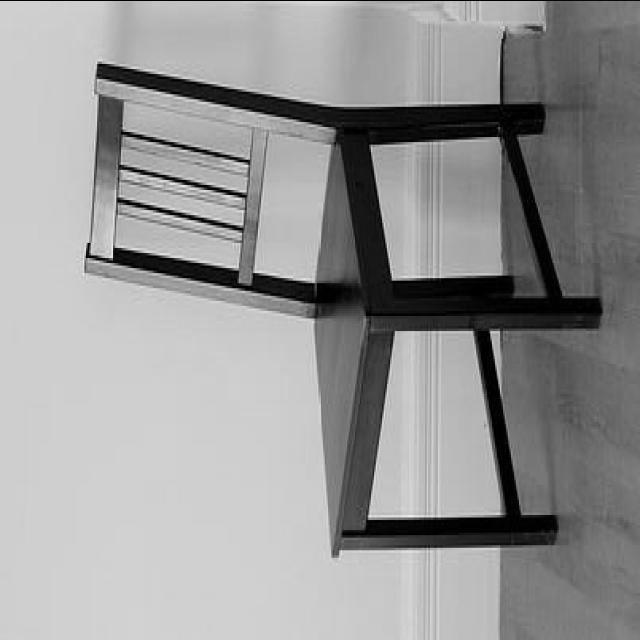chair: (81, 63, 603, 555)
